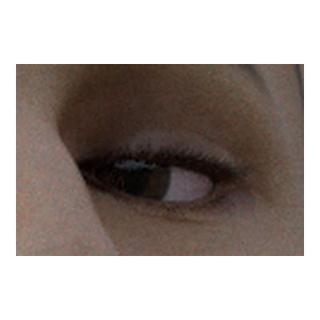pupil: (114, 160, 145, 190)
